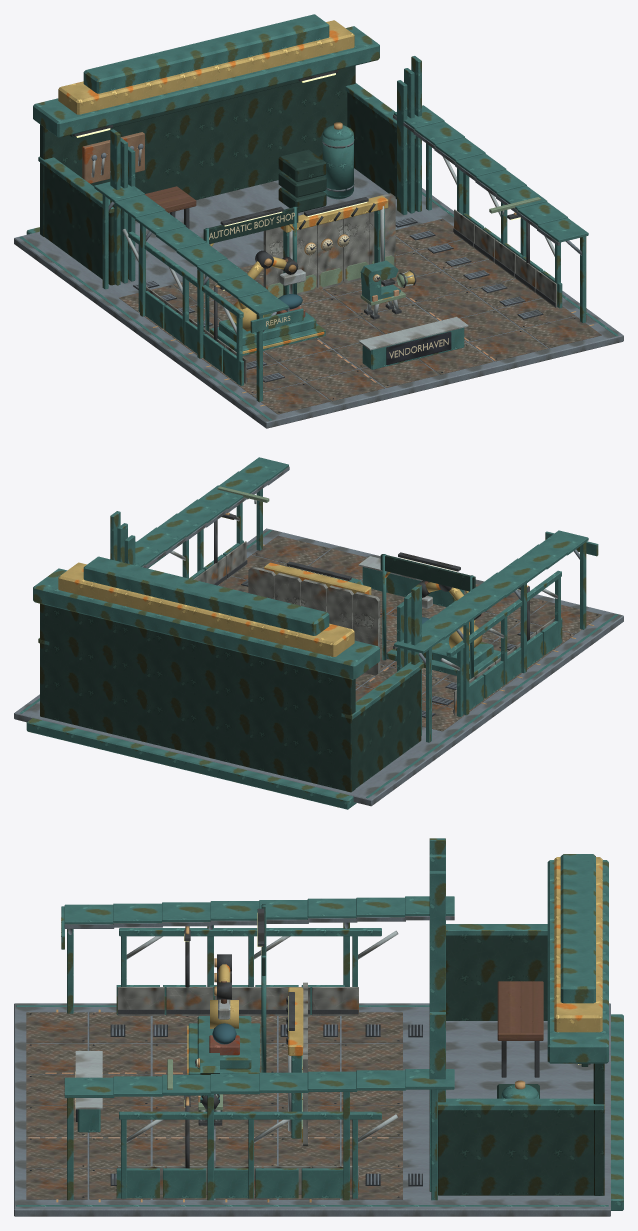
File: verdanthia-garage.glb
3 renders of one model, top to bottom at view 1: azimuth 30°, elevation 25°; view 2: azimuth 150°, elevation 25°; view 3: azimuth 270°, elevation 25°, orthographic. The views are drawn at different scales.
Visible parts, largest first — view 1: verdanthia-garage, Fix-O-Matic 3000 drive; view 2: verdanthia-garage; view 3: verdanthia-garage.
Part boxes in pixels (<box>): verdanthia-garage: <box>14,14,623,428</box>; Fix-O-Matic 3000 drive: <box>360,260,400,301</box>; verdanthia-garage: <box>14,457,623,809</box>; verdanthia-garage: <box>14,838,623,1216</box>.
Bounding box in the file's own units: 16.9 × 7.57 × 21.09.
Materials: 20 (17 with a texture image).
